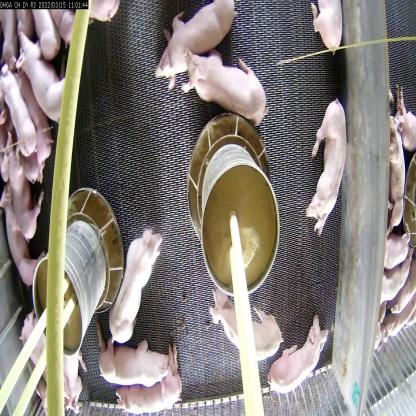Pig: (179, 40, 272, 137), (152, 0, 240, 90), (305, 91, 348, 248), (260, 308, 331, 398), (110, 222, 160, 345), (210, 282, 285, 364), (109, 341, 185, 415), (15, 32, 74, 122), (9, 64, 55, 174), (0, 181, 47, 287), (99, 319, 172, 386), (0, 136, 46, 242), (22, 312, 63, 404), (0, 60, 38, 157), (386, 111, 409, 236), (308, 0, 348, 55), (59, 348, 92, 413)
